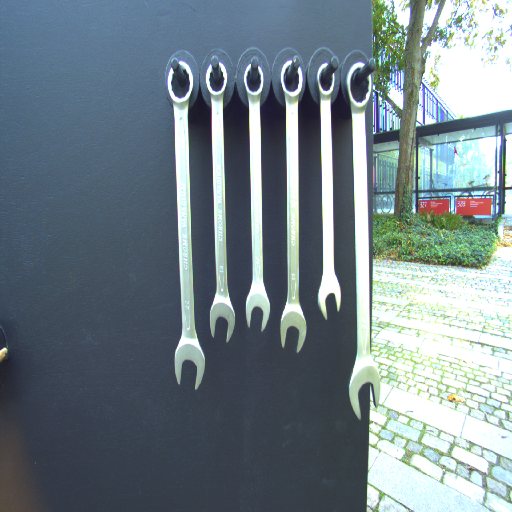bottom: (348, 359, 382, 421), (171, 333, 207, 391), (207, 295, 235, 345), (278, 303, 306, 353), (243, 285, 271, 333), (316, 274, 342, 321)
top: (344, 61, 373, 112), (166, 60, 196, 108), (277, 58, 306, 101), (203, 60, 229, 99), (242, 61, 265, 104), (314, 60, 338, 100)
